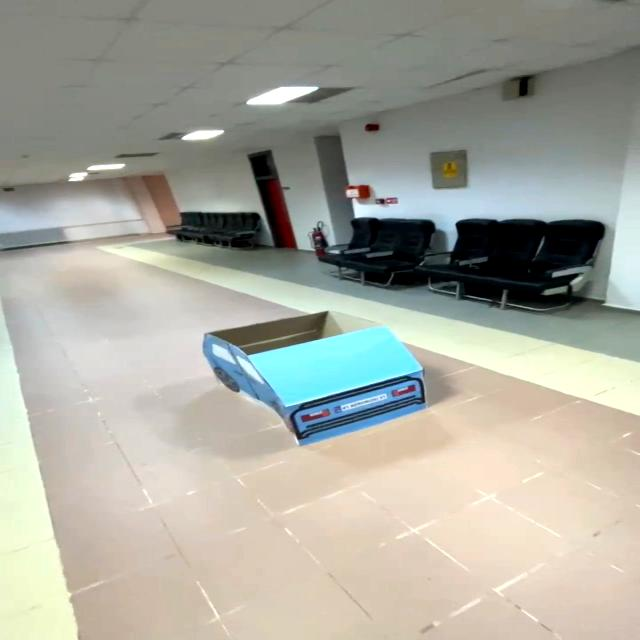blue_car: (185, 297, 458, 461)
